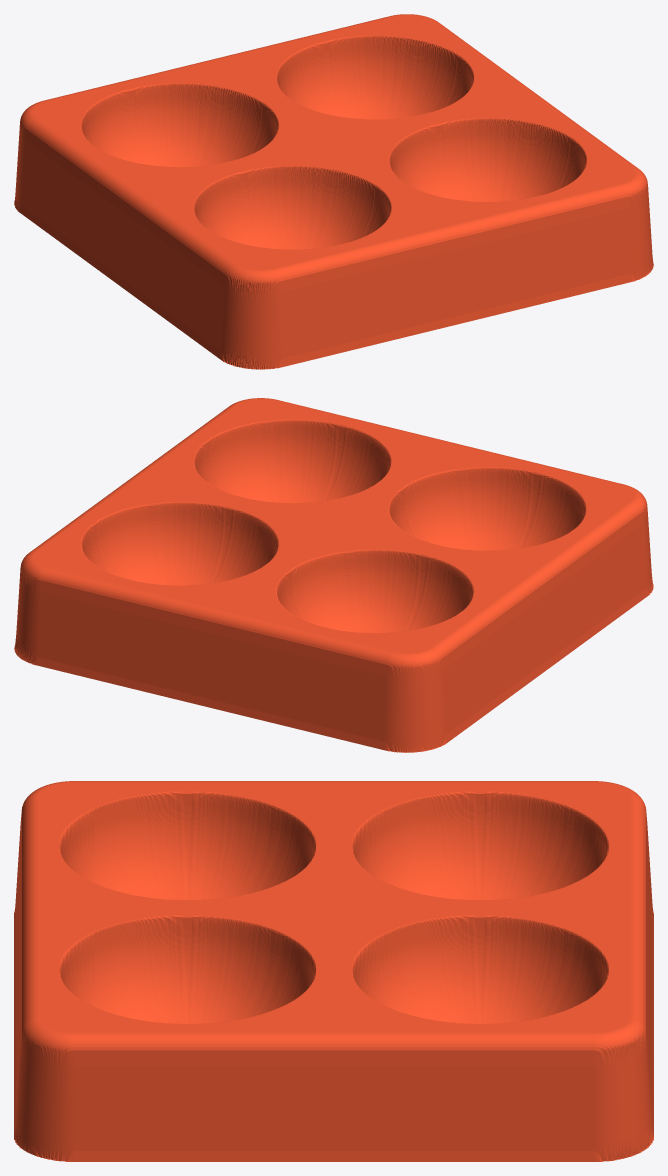
File: mold.glb
3 views of the same model, one above another, from view 1: azimuth 30°, elevation 25°; view 2: azimuth 150°, elevation 25°; view 3: azimuth 270°, elevation 25° (orthographic). The views are drawn at different scales.
Visible parts, largest first — view 1: geometry_0; view 2: geometry_0; view 3: geometry_0.
Part boxes in pixels (x1,y1,x2,y2): geometry_0: (14, 14, 653, 369); geometry_0: (14, 398, 653, 752); geometry_0: (14, 781, 653, 1161).
Size of the model in its own units: 0.0962 by 0.0197 by 0.0962.
